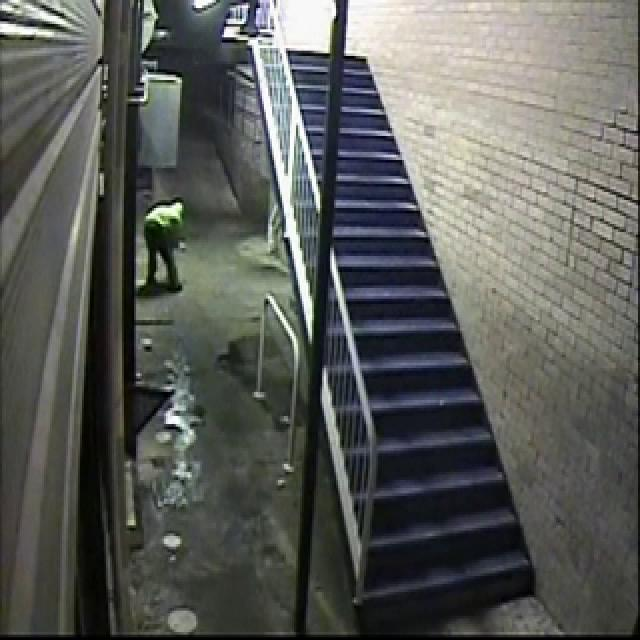arson: (135, 44, 259, 437)
